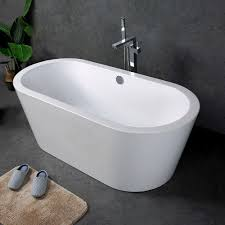bathub: (13, 51, 202, 199)
